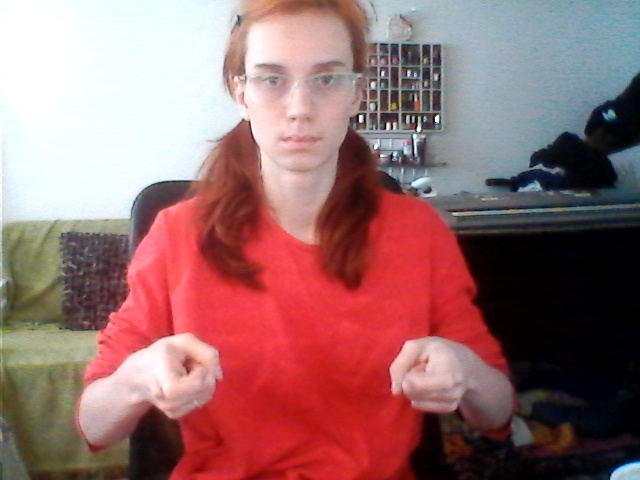davat: (133, 325, 472, 431)
